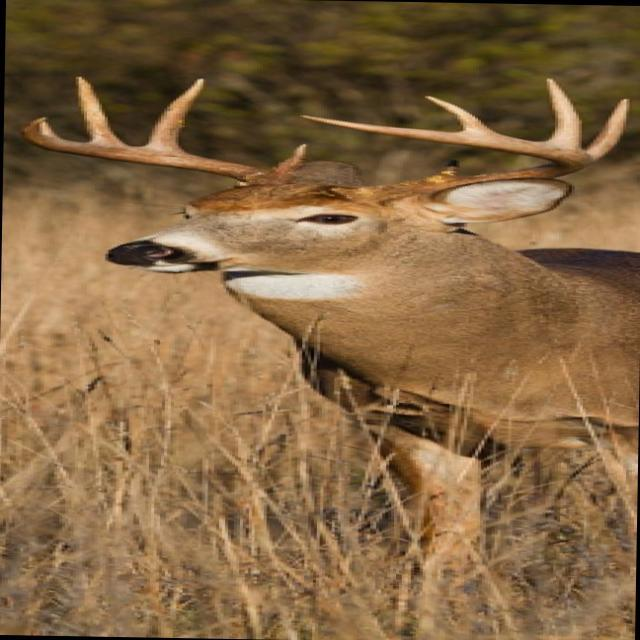L-F: (299, 114, 598, 208)
L-G1: (424, 156, 465, 178)
L-G2: (584, 97, 632, 160)
L-G3: (543, 76, 582, 149)
L-G4: (422, 95, 504, 135)
R-F: (18, 116, 294, 185)
R-G1: (269, 142, 308, 177)
R-G2: (142, 77, 207, 152)
R-G3: (73, 75, 132, 146)
